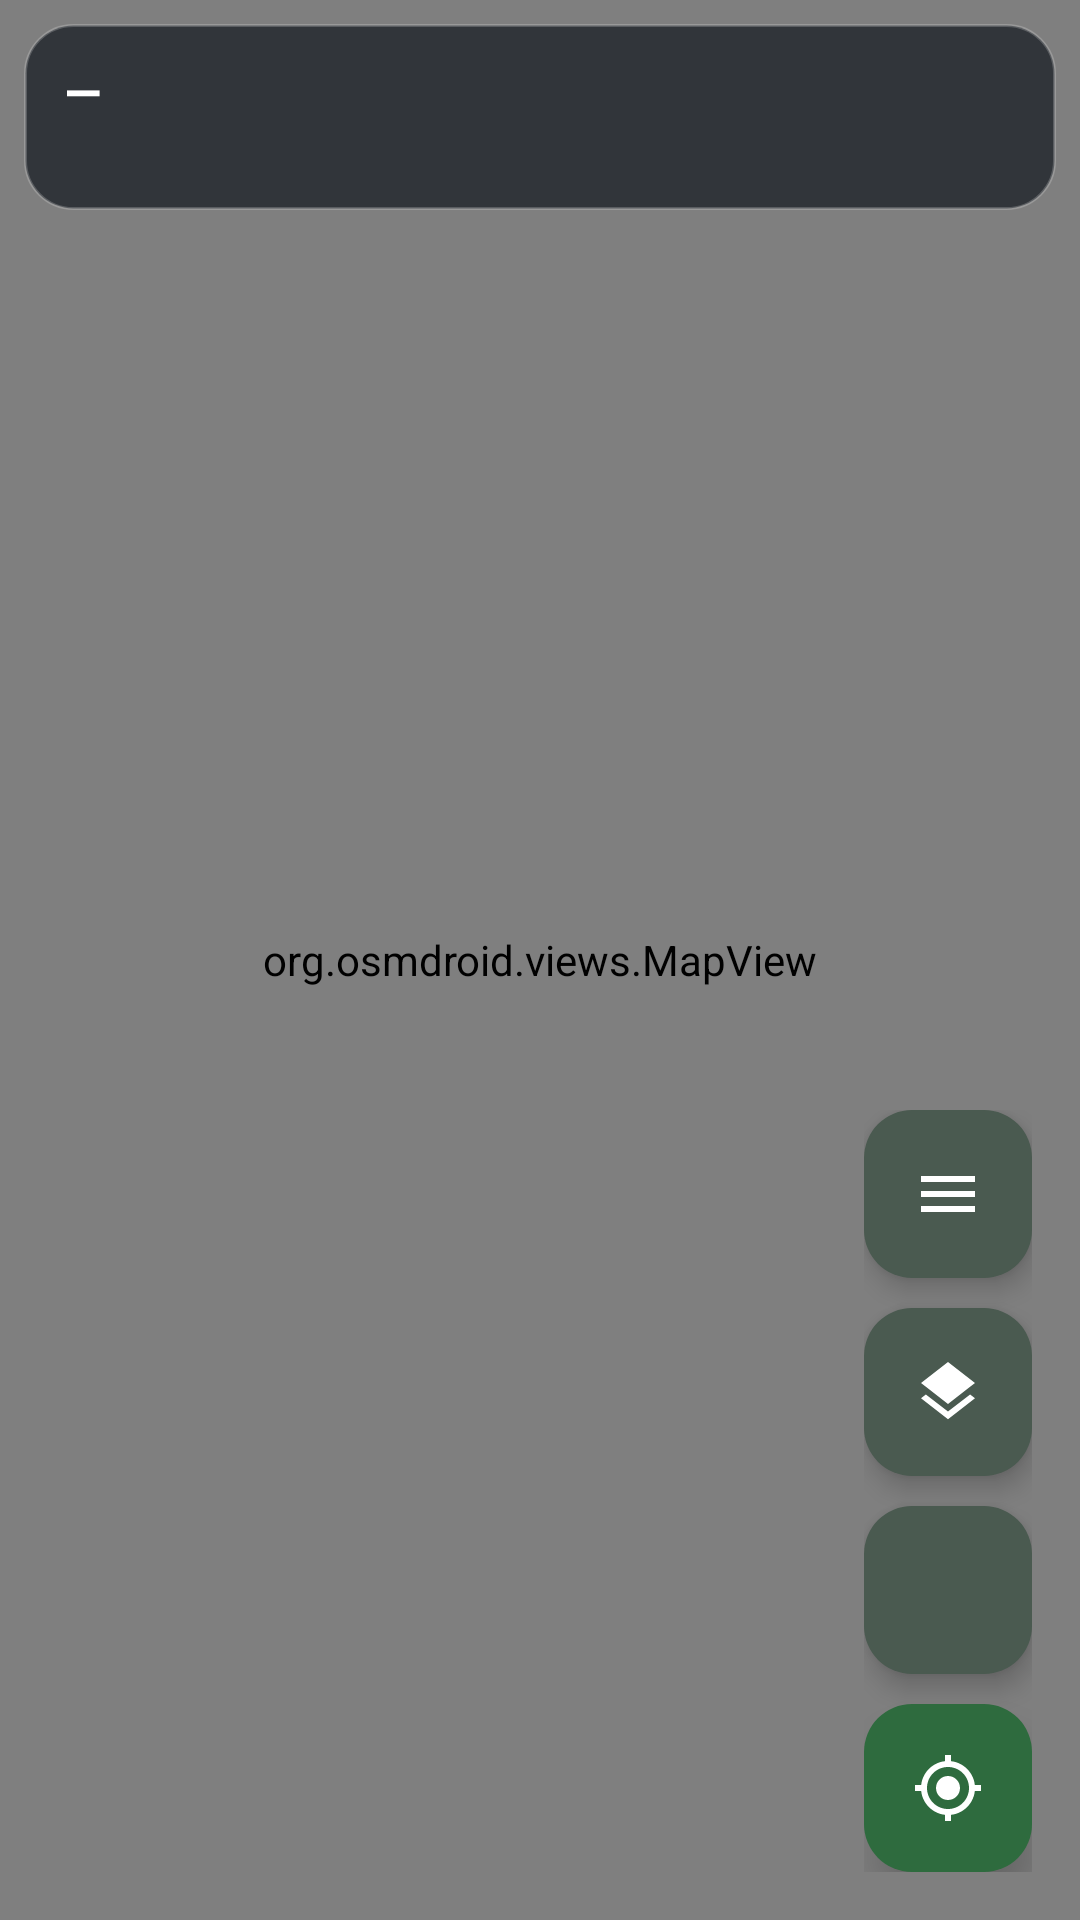

Screen size 1080x1920. Icon name, then its center in pixels as (x=x, y=y):
Meni: (x=948, y=1194)
Moja lokacija: (x=948, y=1788)
Sloji: (x=948, y=1392)
